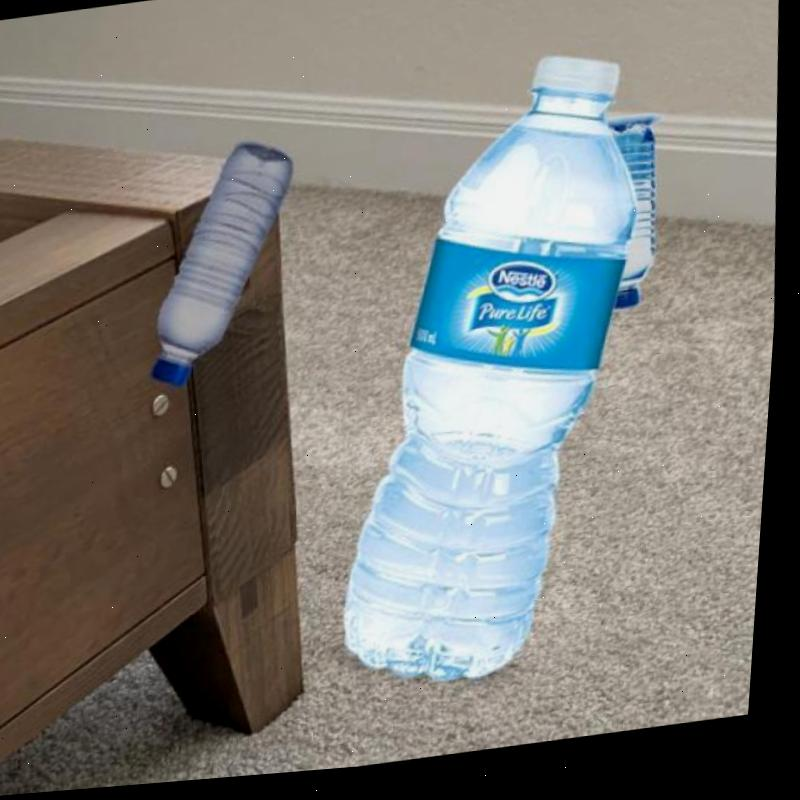botella: (316, 52, 675, 706), (143, 143, 309, 391), (608, 133, 666, 324)
